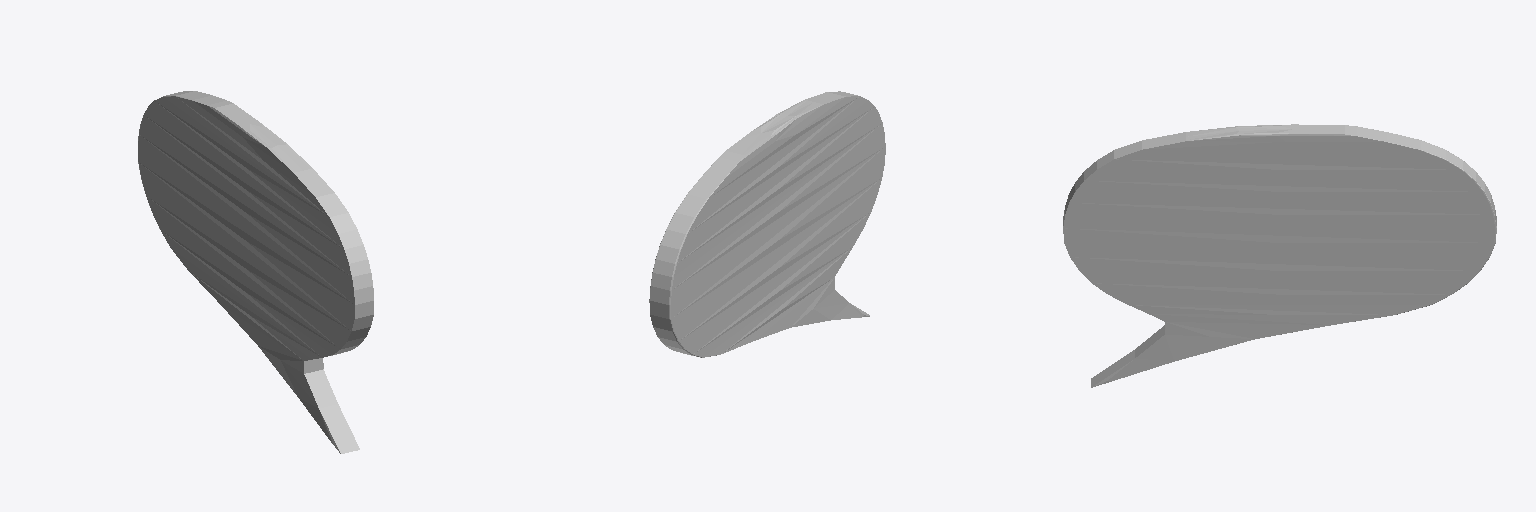
Rendered from WordBubble_Geo.obj.
3 views of the same model, side by side, from view 1: azimuth 30°, elevation 25°; view 2: azimuth 150°, elevation 25°; view 3: azimuth 270°, elevation 25° (orthographic).
Parts seen in each view (by area): view 1: pCube1; view 2: pCube1; view 3: pCube1.
Part boxes in pixels (x1,y1,x2,y2): pCube1: (138, 91, 373, 453); pCube1: (649, 91, 885, 357); pCube1: (1063, 124, 1496, 387).
Size of the model in its own units: 0.056 by 0.6507 by 1.01.